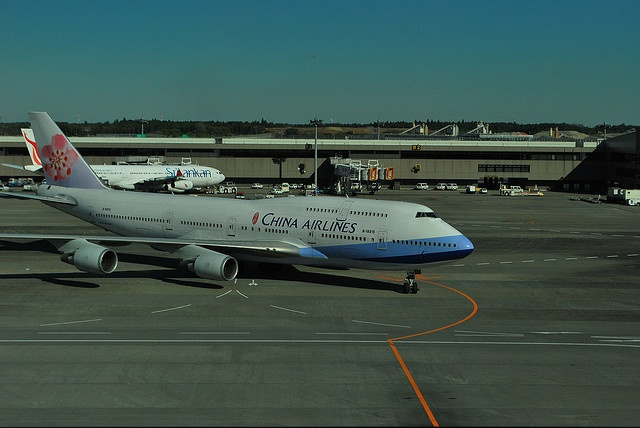Airplane: (8, 98, 483, 306)
